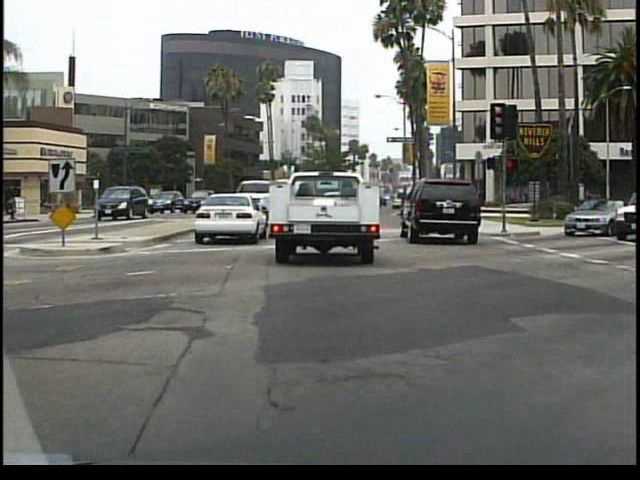person: (100, 188, 119, 222)
